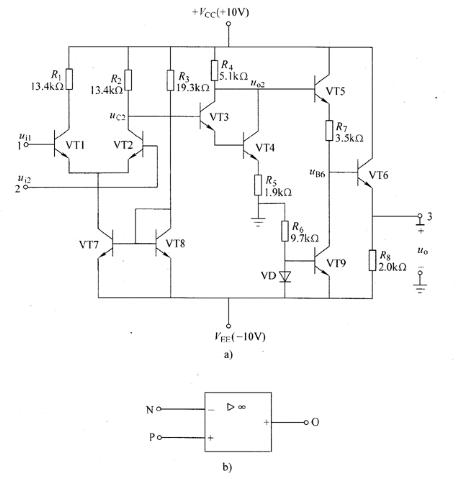diode: (278, 269, 294, 284)
gnd: (248, 215, 266, 228), (411, 281, 427, 295)
res1: (209, 58, 221, 82), (367, 249, 378, 274), (165, 68, 176, 92), (279, 219, 290, 243), (64, 66, 74, 92), (253, 171, 263, 197), (123, 68, 133, 93), (324, 118, 334, 143)
triode: (123, 125, 148, 164), (50, 127, 75, 163), (153, 223, 174, 264), (355, 153, 376, 192), (95, 224, 116, 261), (312, 68, 331, 108), (312, 244, 332, 281), (240, 128, 260, 163), (199, 97, 218, 133)
